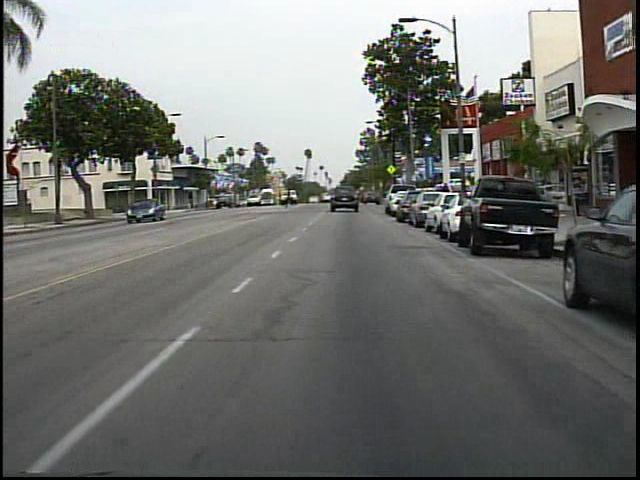person: (435, 179, 455, 216), (282, 185, 297, 213)
